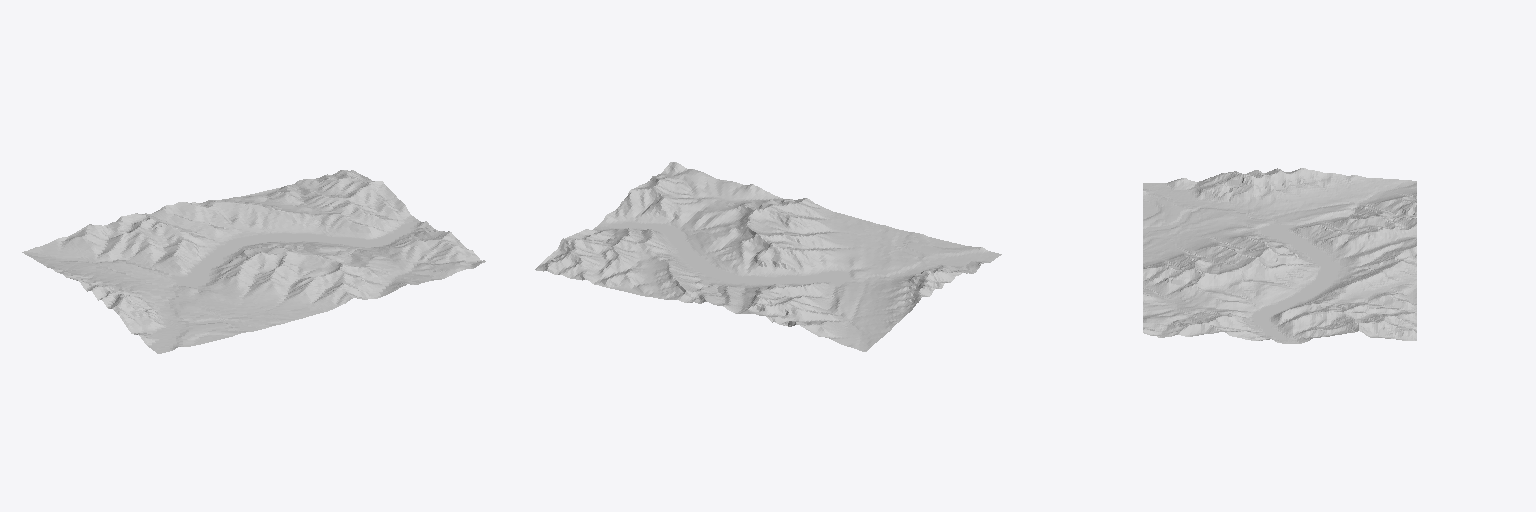
File: Terrain_fixed_LOD1.obj
The picture shows the model from 3 angles: view 1: azimuth 30°, elevation 25°; view 2: azimuth 150°, elevation 25°; view 3: azimuth 270°, elevation 25°; orthographic projection.
Parts seen in each view (by area): view 1: EXPORT_GOOGLE_SAT_WM; view 2: EXPORT_GOOGLE_SAT_WM; view 3: EXPORT_GOOGLE_SAT_WM.
Boxes of the visible parts, box(x1,y1,x2,y2) form: EXPORT_GOOGLE_SAT_WM: box(22, 170, 485, 353); EXPORT_GOOGLE_SAT_WM: box(535, 162, 1001, 351); EXPORT_GOOGLE_SAT_WM: box(1143, 168, 1416, 343).
Bounding box in the file's own units: 1712 × 81.72 × 1223.